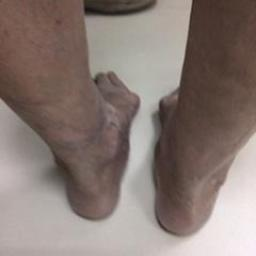Back View -Both Feet-: (12, 54, 252, 241)
